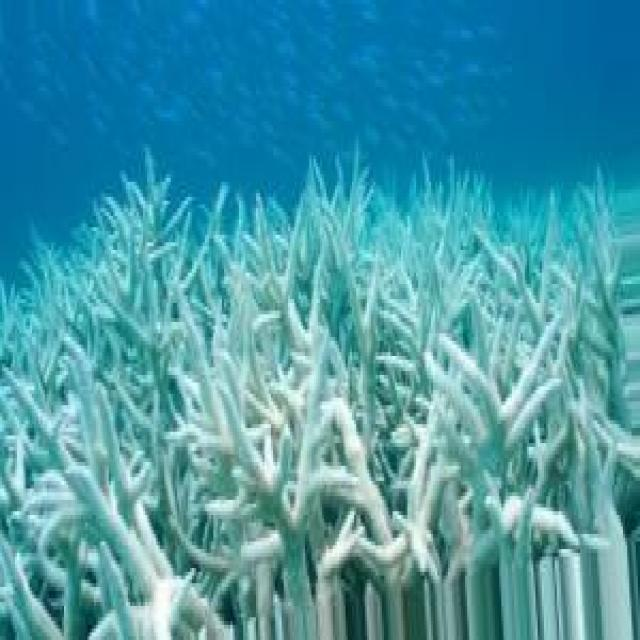bleached coral: (66, 443, 154, 598), (282, 420, 352, 610), (497, 375, 561, 496), (166, 364, 245, 447), (190, 496, 260, 587), (388, 364, 437, 470), (277, 258, 320, 371), (529, 273, 576, 375), (420, 258, 484, 329)
healthy coral: (486, 186, 606, 254), (43, 269, 117, 352), (339, 186, 403, 261), (141, 182, 192, 269), (0, 360, 55, 413)
